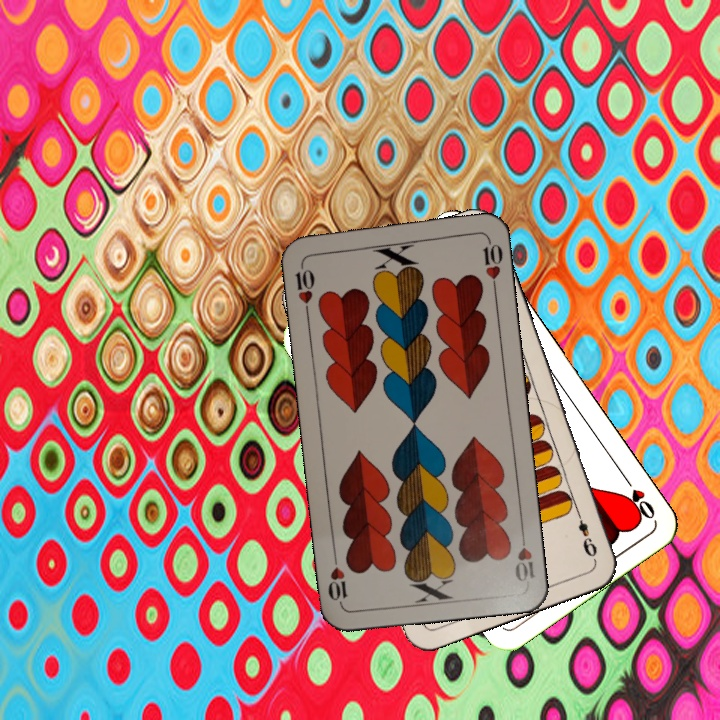E9: (572, 505, 600, 563)
H10: (510, 526, 538, 584), (291, 259, 317, 318)
HO: (618, 471, 658, 522)
